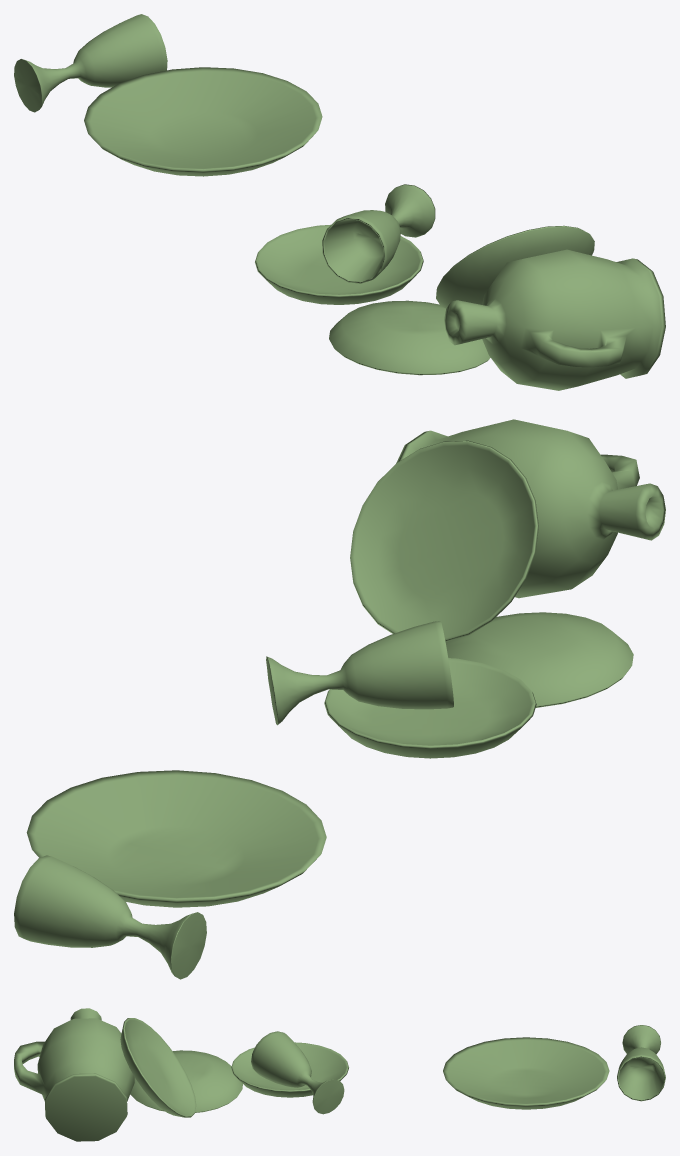
File: Jar_Break_08B_Lod0.fbx
3 views of the same model, one above another, from view 1: azimuth 30°, elevation 25°; view 2: azimuth 150°, elevation 25°; view 3: azimuth 270°, elevation 25° (orthographic). The views are drawn at different scales.
Parts seen in each view (by area): view 1: Jar_Break_08B_Lod0; view 2: Jar_Break_08B_Lod0; view 3: Jar_Break_08B_Lod0.
Boxes of the visible parts, x1,y1,x2,y2 form: Jar_Break_08B_Lod0: (14,14,665,390); Jar_Break_08B_Lod0: (14,419,665,979); Jar_Break_08B_Lod0: (14,1008,665,1141).
Bounding box in the file's own units: 46.68 × 26.32 × 161.
